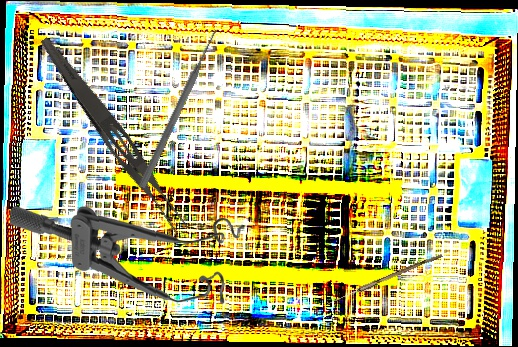Dressing Forceps: (30, 33, 195, 239)
Pusher: (137, 27, 221, 190)
Speculum: (10, 200, 245, 310)
Surgical Spoon: (327, 251, 443, 307)
